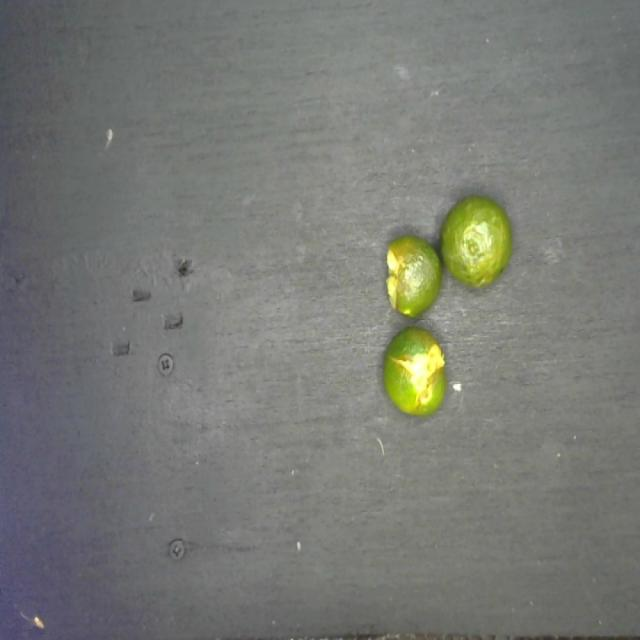biodegradable: (374, 188, 516, 427)
